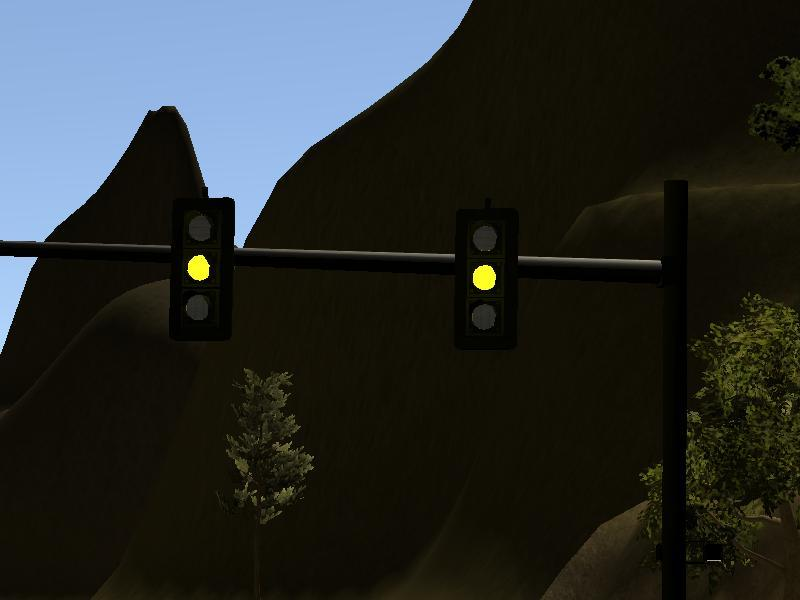Yellow: (170, 197, 235, 343), (454, 207, 518, 352)
